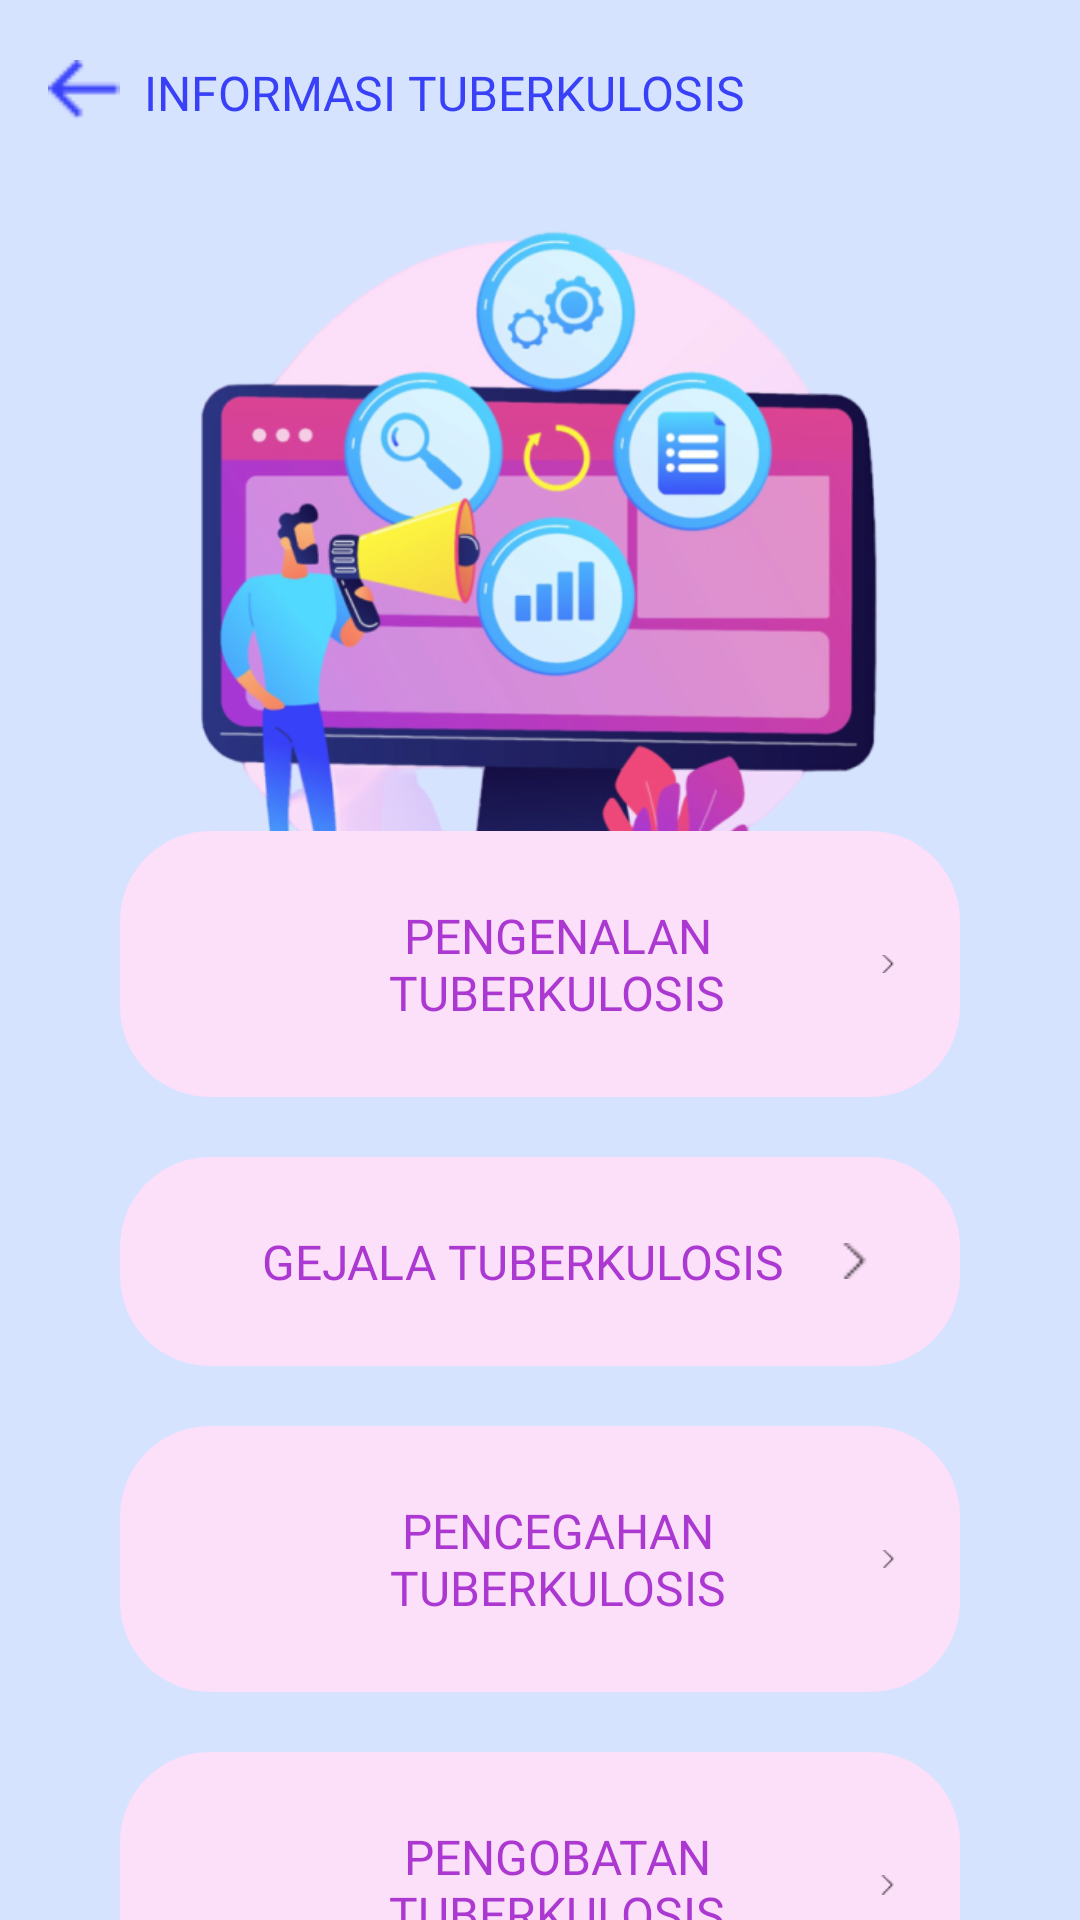

Where to tap for icons on this 1080 x 1920 app screen, as point (x, y):
back: point (84, 89)
